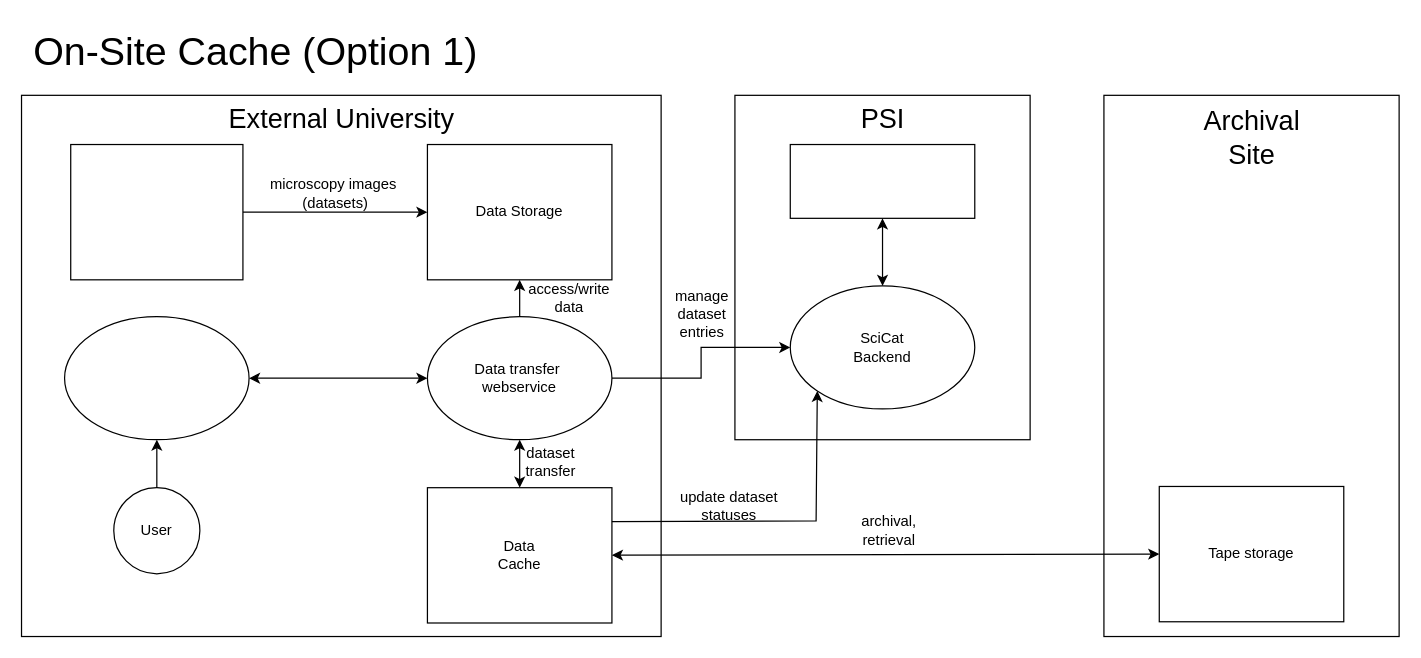
The diagram is 1421 pixels wide and 658 high, and some of its shapes have lost their labels. The centre of each missing label's shape, as x and y in pixels:
"Microscopes" belongs at point 156,211.
"SC Database" belongs at point 882,180.
"WebUI Frontend" belongs at point 156,377.
